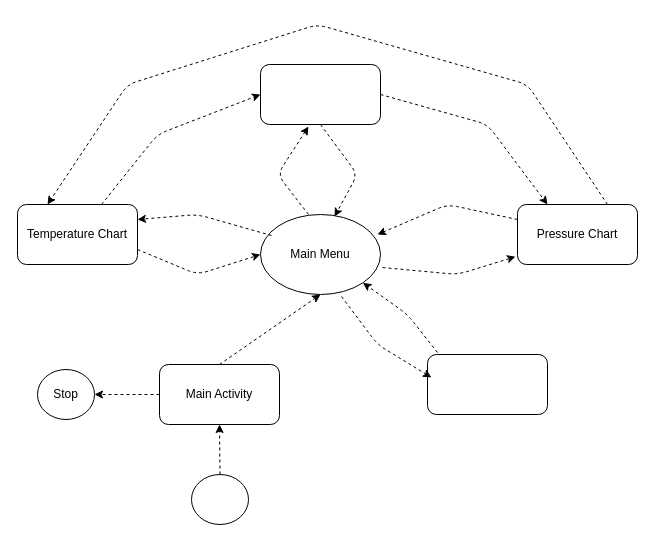
Image size: 655x542. Some labels were removed from this diagram. The centre of each missing label's shape, as x and y in pixels:
Humidity Chart: (320,94)
Instructions: (487,384)
Start: (219,499)
